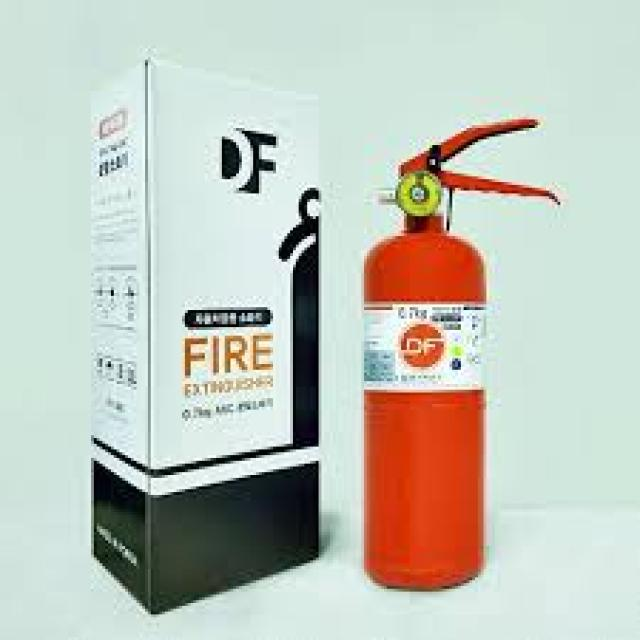pressure gauge: (399, 174, 443, 219), (404, 180, 432, 216)
